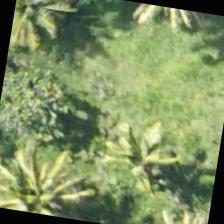Kelapa_Sawit: (86, 107, 190, 210), (0, 134, 92, 221), (0, 160, 98, 222)
